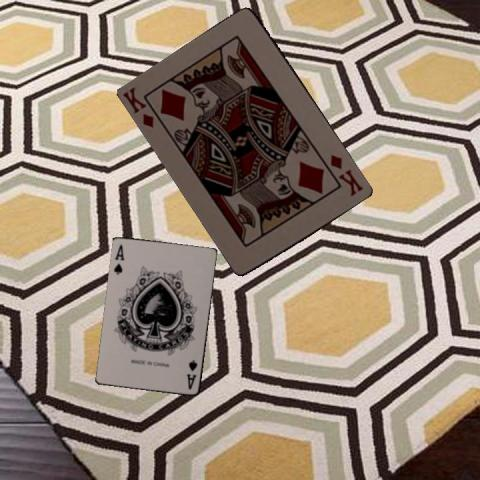As: (111, 242, 126, 276), (184, 358, 199, 391)
Kd: (120, 84, 167, 131), (328, 151, 366, 198)
